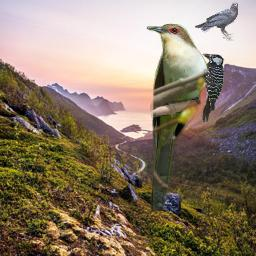Crow: (195, 2, 238, 41)
Cuckoo: (146, 23, 210, 211)
Woodpecker: (201, 52, 225, 122)
